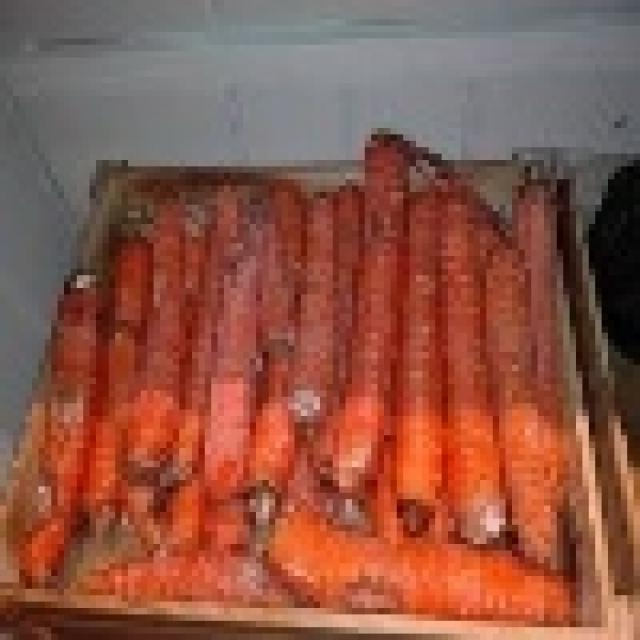Fresh_Carrot: (52, 143, 612, 613)
